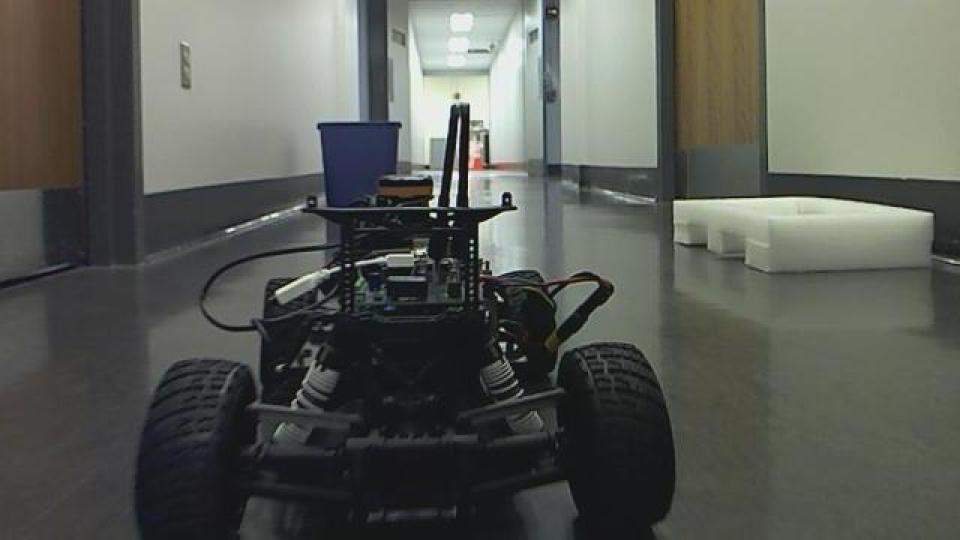car: (130, 99, 680, 537)
